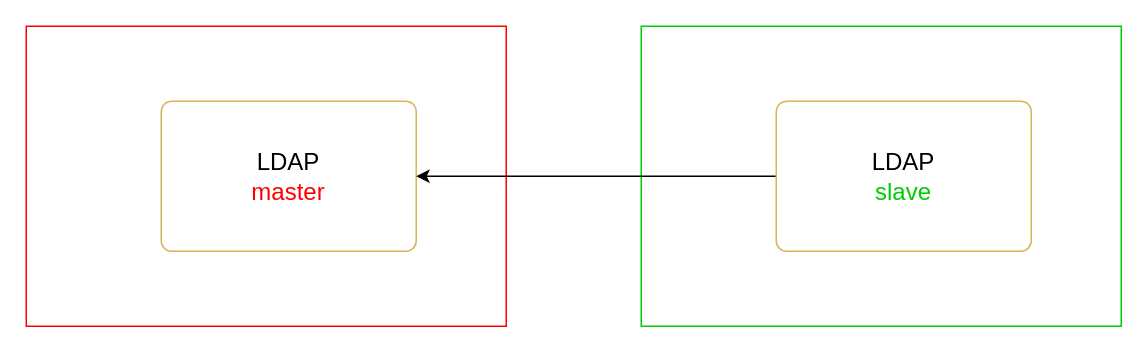
The diagram is 1148 pixels wide and 353 high, and some of its shapes have lost their labels. The box of each missing label's shape, as (x1, y1, x2, y2) in pixels:
rocky1.k.erusnikov.ru: (25, 25, 506, 326)
rocky2.k.erusnikov.ru: (640, 25, 1121, 326)
